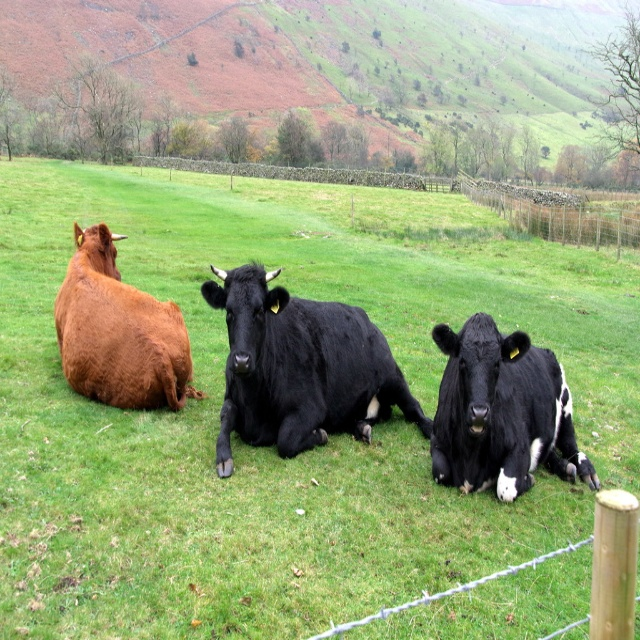Bull: (200, 257, 434, 477), (430, 312, 601, 500), (56, 219, 207, 410)
